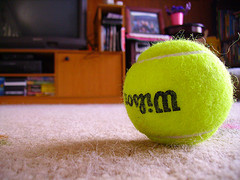tennis ball: (121, 39, 234, 146)
